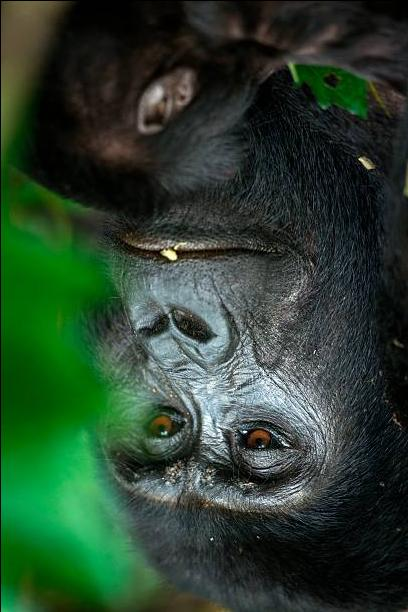goriile_montagne: (23, 0, 408, 611)
